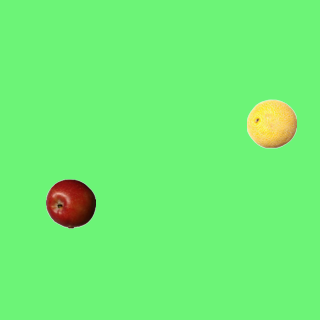Apple Braeburn: (45, 178, 95, 228)
Cantaloupe 1: (246, 98, 296, 148)
